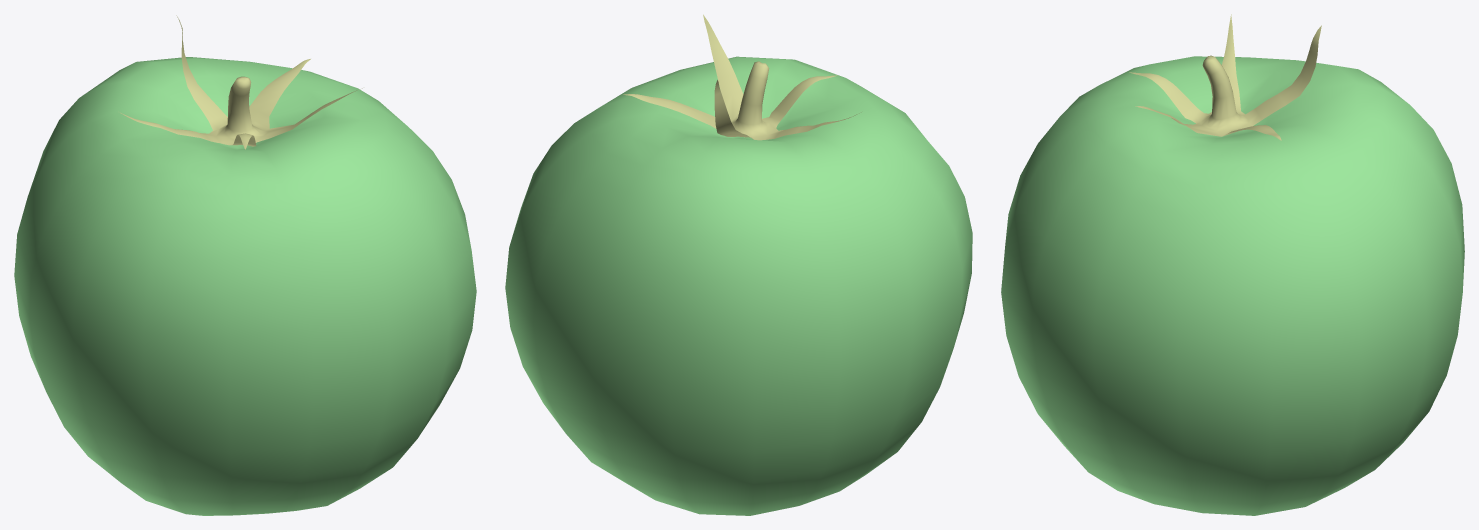
File: Domates.fbx
3 views of the same model, side by side, from view 1: azimuth 30°, elevation 25°; view 2: azimuth 150°, elevation 25°; view 3: azimuth 270°, elevation 25° (orthographic).
Parts seen in each view (by area): view 1: Domates, Domates Sap; view 2: Domates, Domates Sap; view 3: Domates, Domates Sap.
Boxes of the visible parts, x1,y1,x2,y2 form: Domates: (14, 57, 476, 515); Domates Sap: (120, 15, 362, 149); Domates: (505, 56, 972, 515); Domates Sap: (623, 14, 861, 140); Domates: (1001, 56, 1464, 515); Domates Sap: (1129, 14, 1321, 140).
Bounding box in the file's own units: 59.34 × 63.99 × 58.77.
